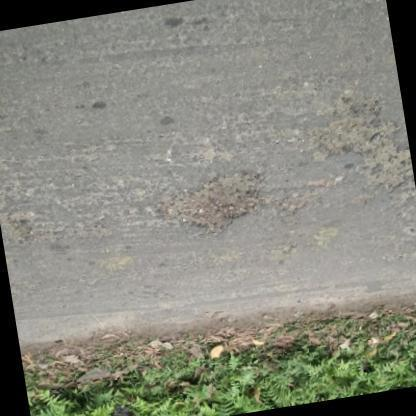pothole: (317, 100, 416, 206), (158, 171, 264, 234)
